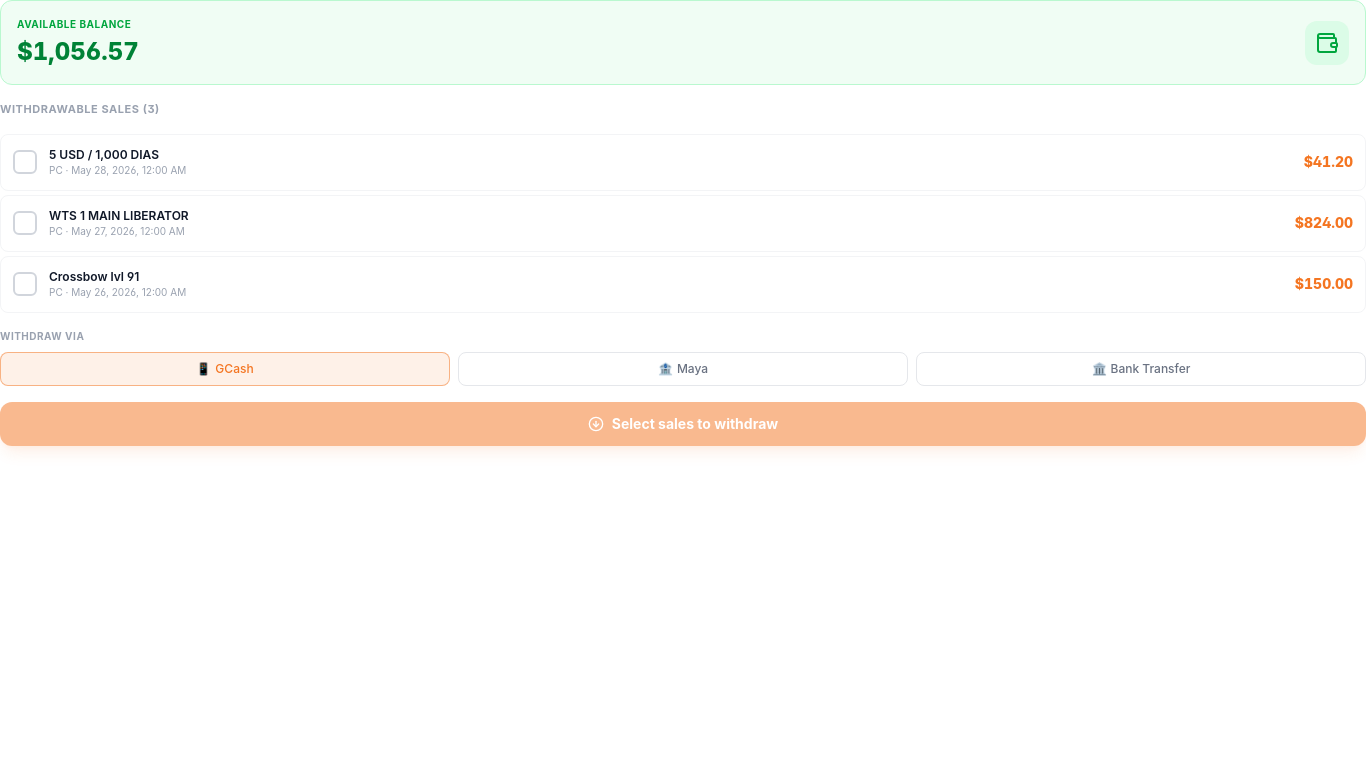
Scenario: WithdrawalPanel › shows error message on withdrawal failure
Step 1. Click the button "5 USD / 1,000 DIAS" → (104, 154), box [0,134,1365,190]
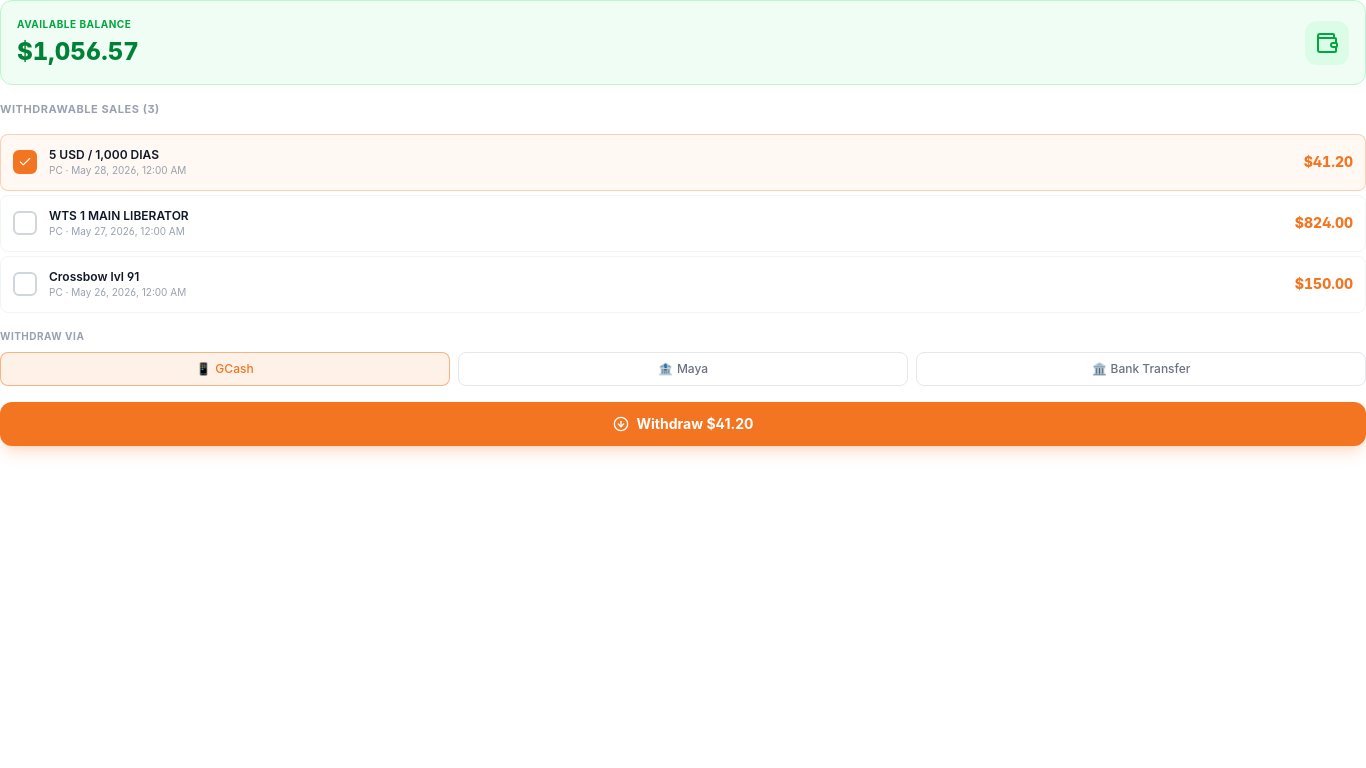
Step 2. Click the button "Withdraw $41.20" → (683, 424), box [0,402,1365,446]
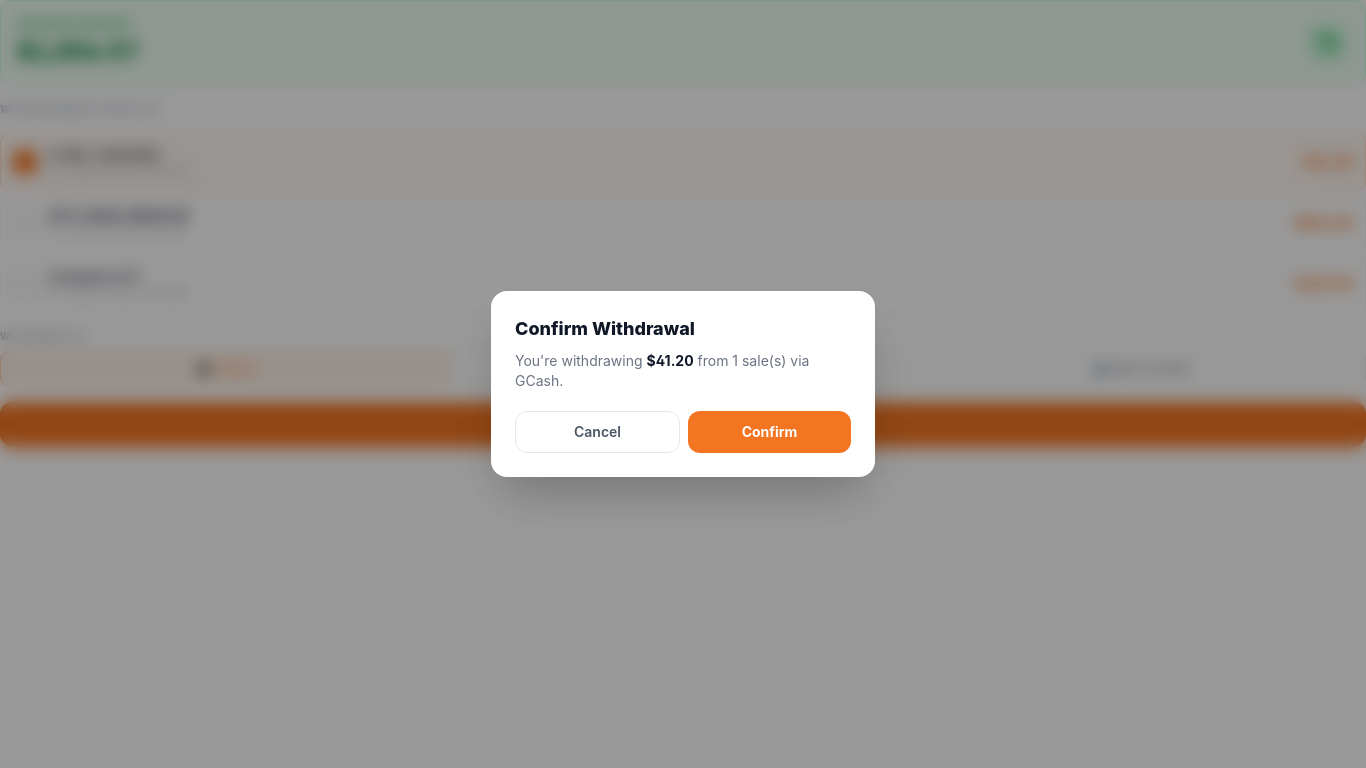
Step 3. Click the button "Confirm" → (770, 432), box [688,411,851,453]
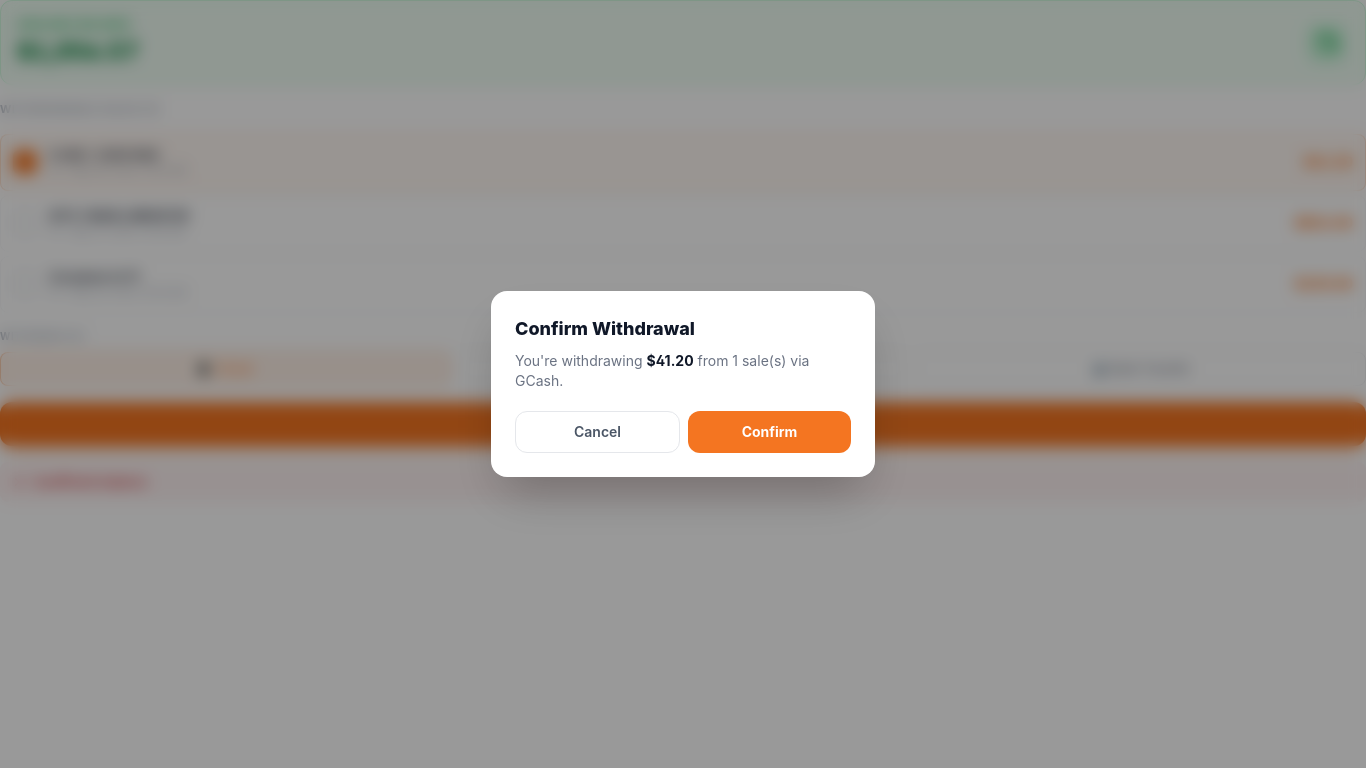
expect the text "Insufficient balance" is shown: met, box [0,462,1365,502]
